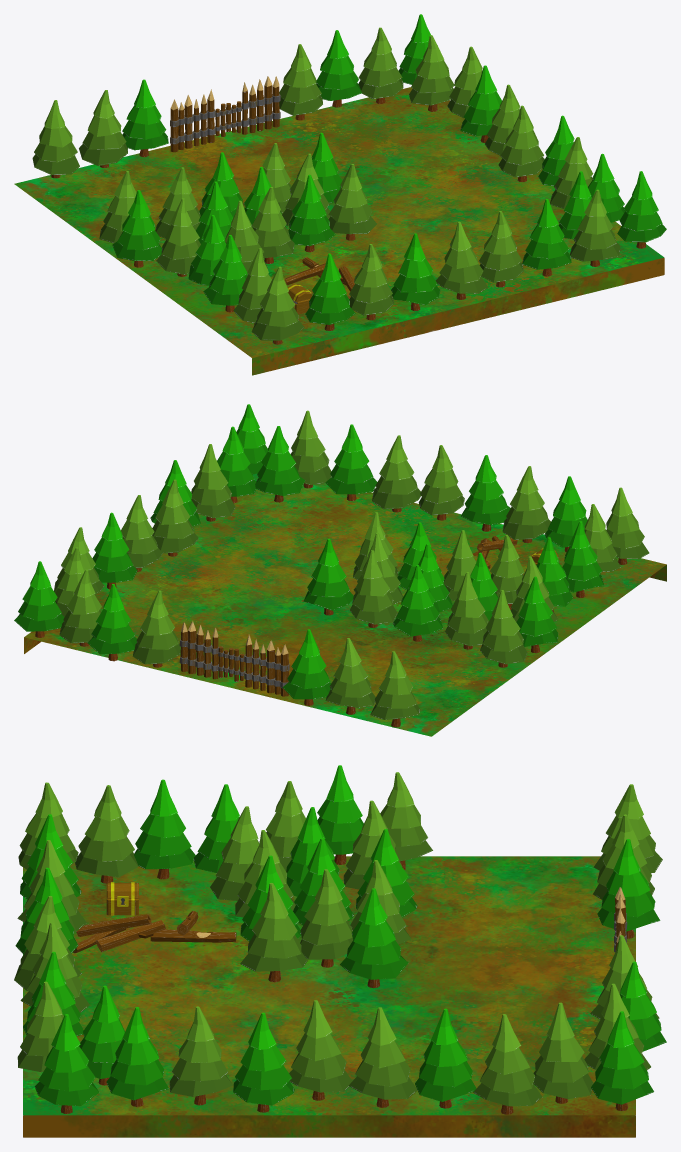
File: lvl_0-cnk_2.obj
3 views of the same model, one above another, from view 1: azimuth 30°, elevation 25°; view 2: azimuth 150°, elevation 25°; view 3: azimuth 270°, elevation 25° (orthographic). The views are drawn at different scales.
Parts seen in each view (by area): view 1: Cube.076, barricada.002, Arbol_1.177, Arbol_1.203, Arbol_1.160, Arbol_1.175, Arbol_1.171, Arbol_1.182, Arbol_1.154, Arbol_1.163, Arbol_1.181, Arbol_1.179 (+33 smaller); view 2: Cube.076, barricada.002, Arbol_1.169, Arbol_1.158, Arbol_1.162, Arbol_1.205, Arbol_1.170, Arbol_1.163, Arbol_1.153, Arbol_1.103, Arbol_1.206, Arbol_1.183 (+32 smaller); view 3: Cube.076, Arbol_1.148, Arbol_1.150, Arbol_1.149, Arbol_1.208, Arbol_1.176, Arbol_1.164, Arbol_1.168, Arbol_1.165, Arbol_1.154, Arbol_1.166, Arbol_1.167 (+34 smaller).
Part boxes in pixels (x1=…): Cube.076: x1=14, y1=87, x2=664, y2=375; barricada.002: x1=170, y1=76, x2=280, y2=152; Arbol_1.177: x1=251, y1=266, x2=304, y2=344; Arbol_1.203: x1=570, y1=189, x2=620, y2=266; Arbol_1.160: x1=79, y1=90, x2=127, y2=167; Arbol_1.175: x1=32, y1=100, x2=79, y2=178; Arbol_1.171: x1=112, y1=190, x2=161, y2=267; Arbol_1.182: x1=435, y1=221, x2=488, y2=299; Arbol_1.154: x1=328, y1=164, x2=376, y2=240; Arbol_1.163: x1=522, y1=199, x2=571, y2=276; Arbol_1.181: x1=391, y1=233, x2=440, y2=310; Arbol_1.179: x1=305, y1=253, x2=355, y2=330; Cube.076: x1=24, y1=473, x2=666, y2=736; barricada.002: x1=179, y1=621, x2=289, y2=696; Arbol_1.169: x1=372, y1=435, x2=420, y2=512; Arbol_1.158: x1=132, y1=590, x2=180, y2=667; Arbol_1.162: x1=502, y1=466, x2=550, y2=543; Arbol_1.205: x1=350, y1=550, x2=397, y2=627; Arbol_1.170: x1=480, y1=590, x2=527, y2=667; Arbol_1.163: x1=325, y1=424, x2=377, y2=500; Arbol_1.153: x1=87, y1=584, x2=136, y2=661; Arbol_1.103: x1=14, y1=561, x2=64, y2=637; Arbol_1.206: x1=393, y1=565, x2=443, y2=641; Arbol_1.183: x1=255, y1=426, x2=304, y2=502; Cube.076: x1=23, y1=856, x2=635, y2=1137; Arbol_1.148: x1=533, y1=1002, x2=593, y2=1103; Arbol_1.150: x1=348, y1=1007, x2=417, y2=1107; Arbol_1.149: x1=473, y1=1014, x2=542, y2=1114; Arbol_1.208: x1=340, y1=888, x2=408, y2=988; Arbol_1.176: x1=75, y1=785, x2=138, y2=883; Arbol_1.164: x1=289, y1=1000, x2=352, y2=1100; Arbol_1.168: x1=34, y1=1014, x2=99, y2=1113; Arbol_1.165: x1=233, y1=1012, x2=294, y2=1112; Arbol_1.154: x1=240, y1=883, x2=307, y2=982; Arbol_1.166: x1=106, y1=1007, x2=169, y2=1106; Arbol_1.167: x1=169, y1=1006, x2=232, y2=1105.
Size of the model in its own units: 106 by 21.19 by 105.
